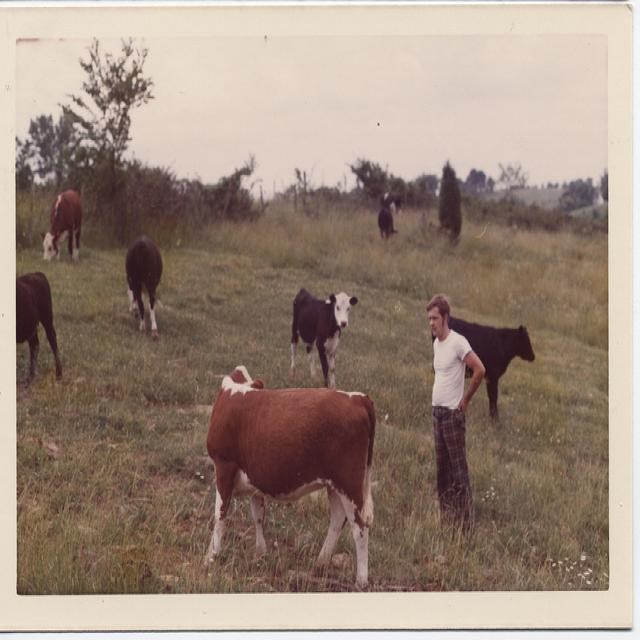cow: (205, 366, 375, 586), (431, 313, 533, 418), (289, 285, 356, 387), (15, 271, 62, 380), (124, 233, 164, 342), (39, 189, 82, 259), (376, 206, 392, 237), (380, 190, 401, 213)
